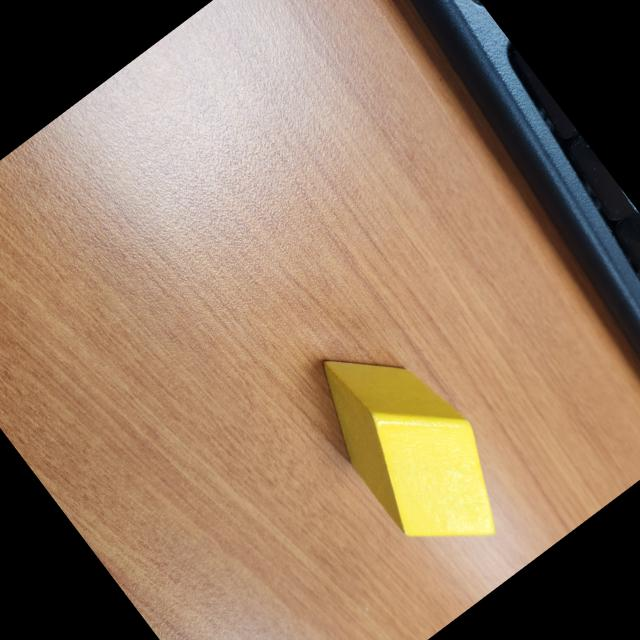yellow: (292, 312, 534, 578)
